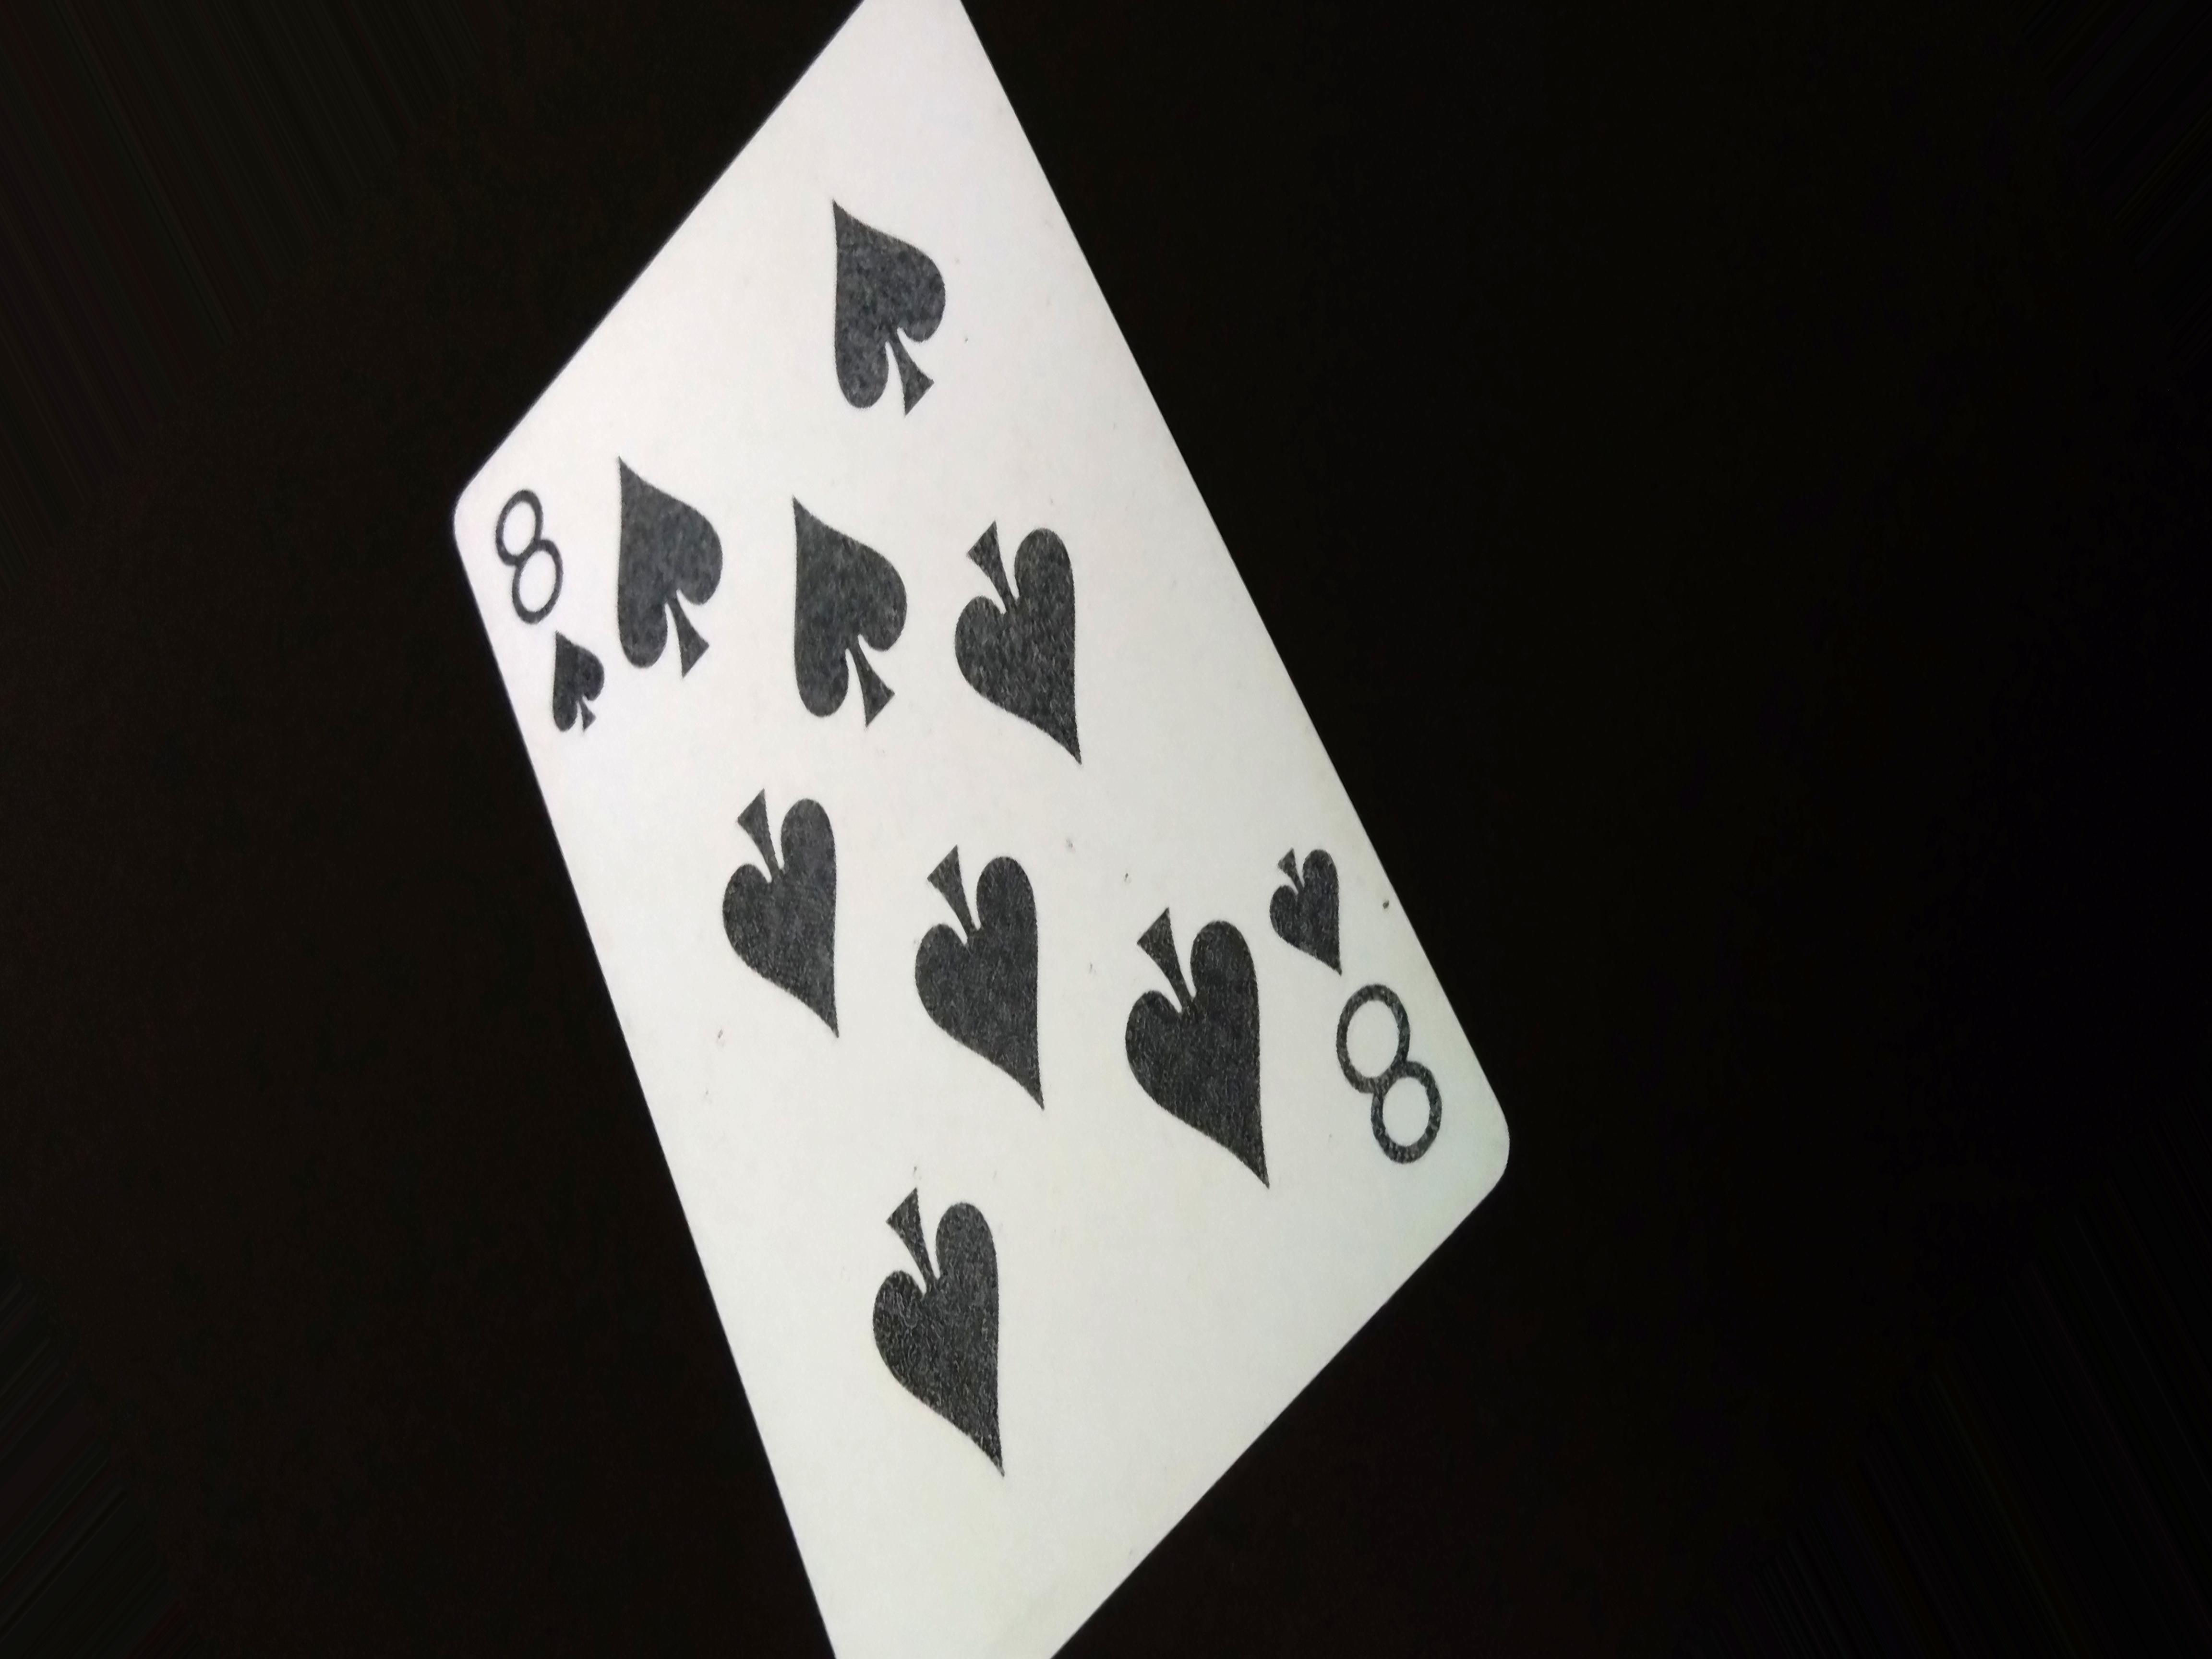8S: (475, 472, 636, 749)
